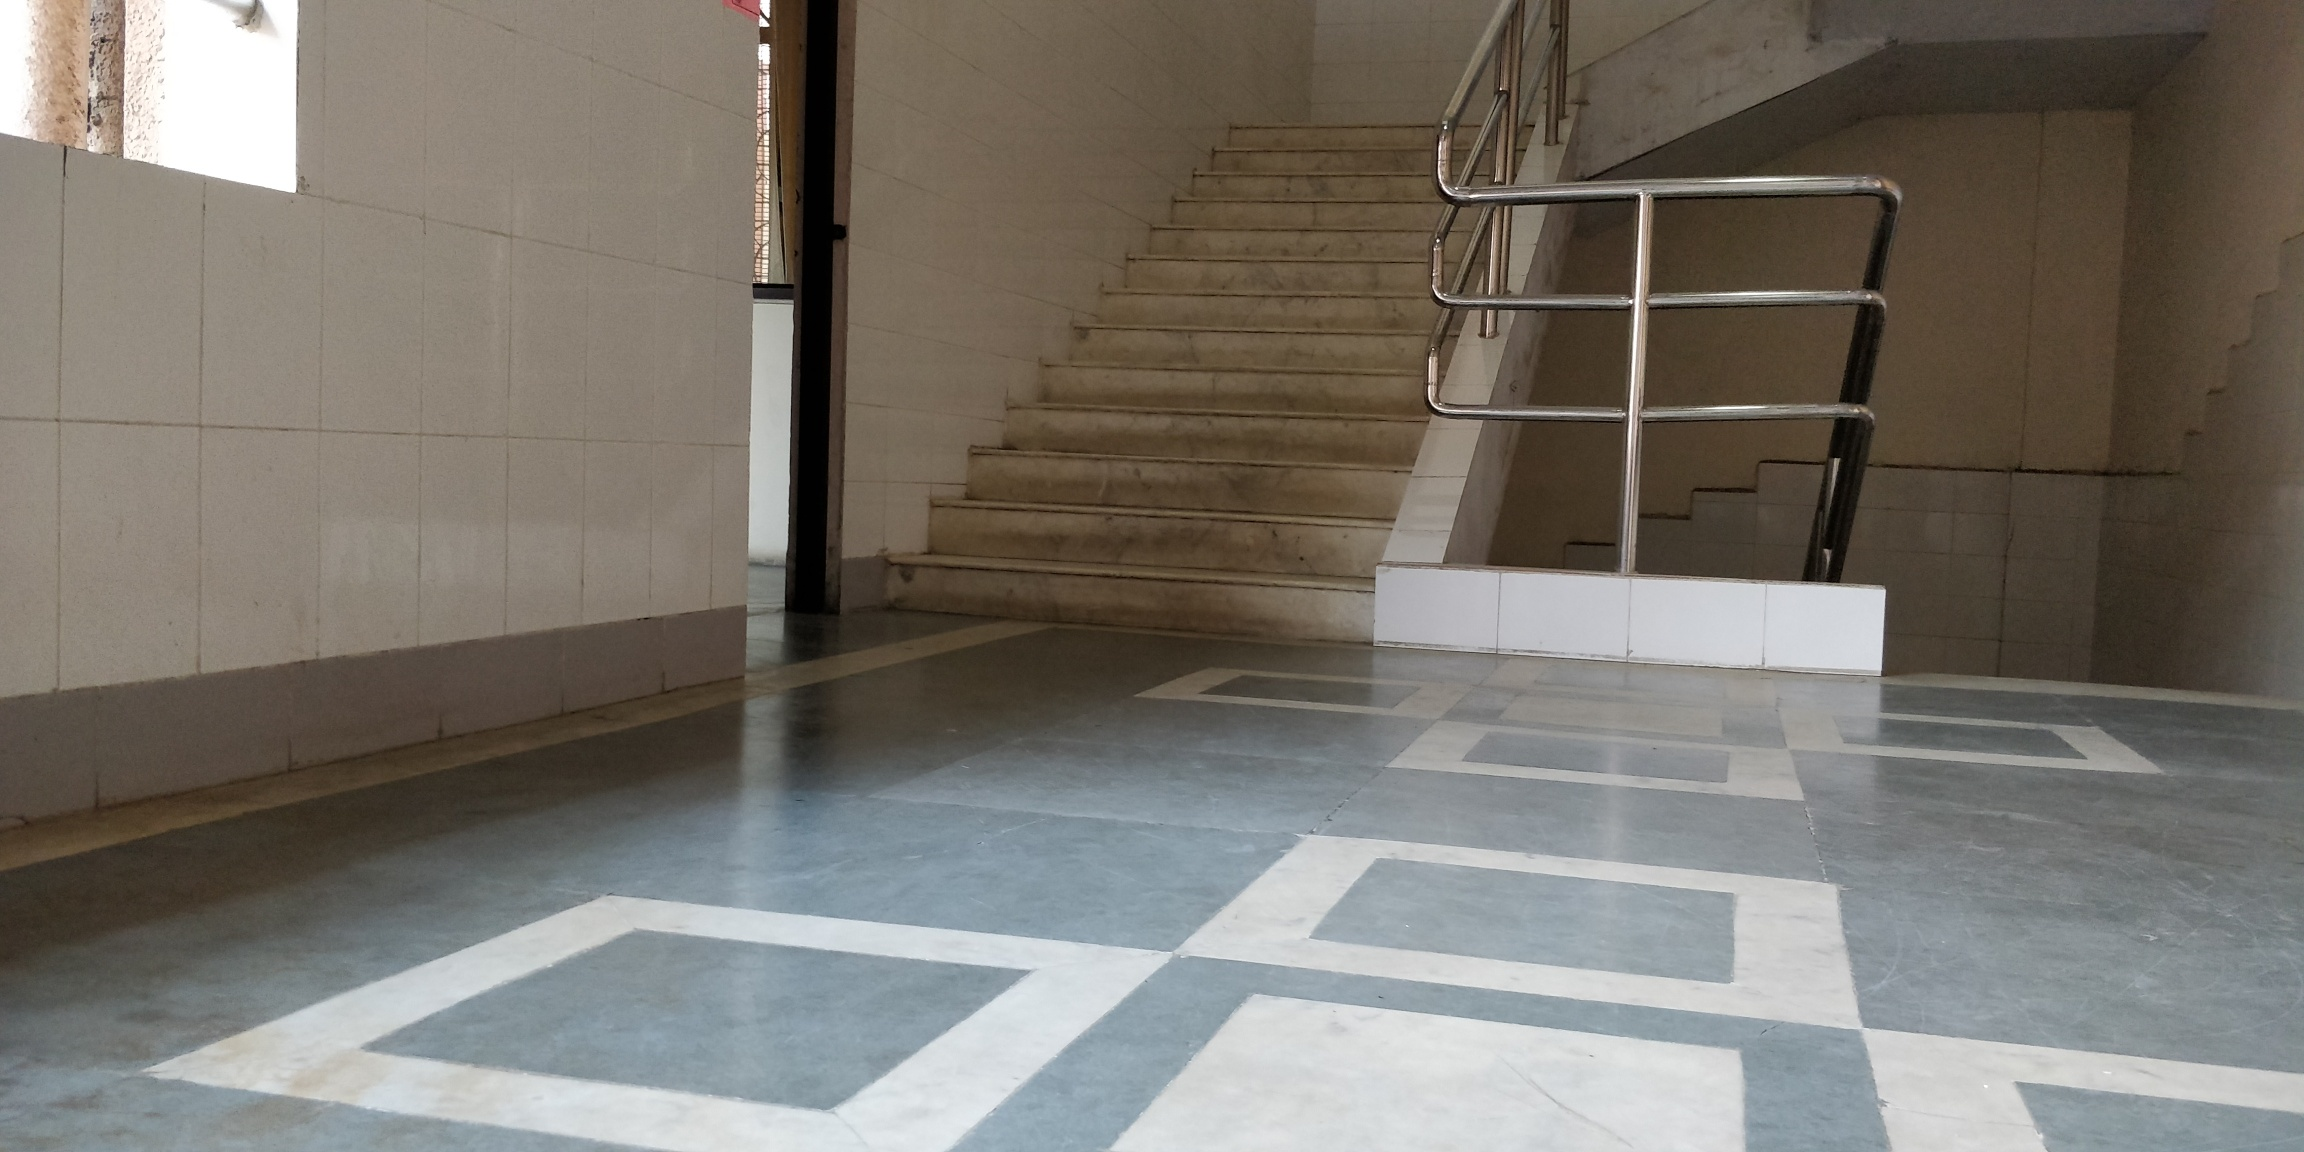stairs_up: (865, 91, 1543, 658)
